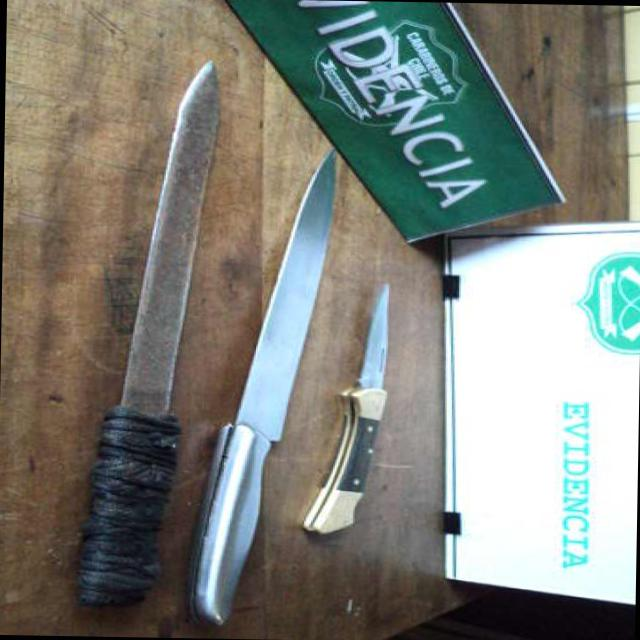knife: (94, 51, 236, 416), (213, 140, 344, 444), (338, 276, 402, 404)
